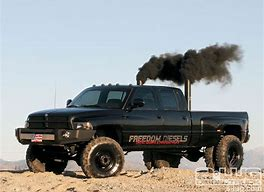smoke: (134, 42, 245, 85)
